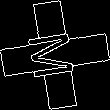M_E: (26, 28, 84, 82)
